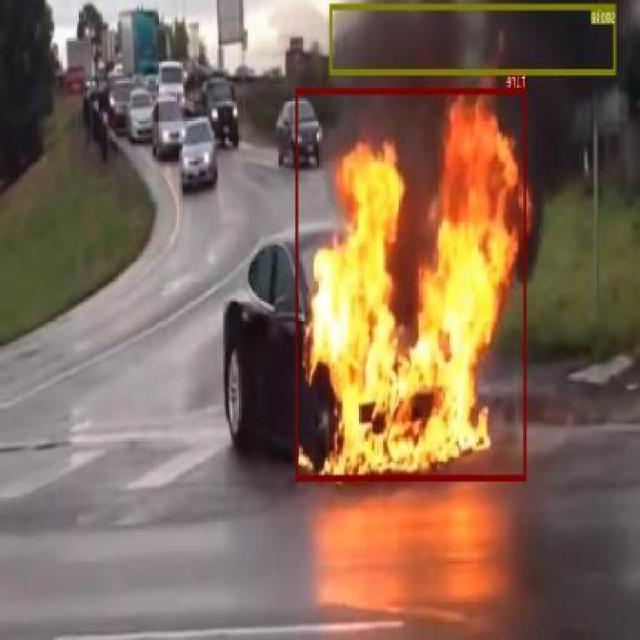Fire: (296, 88, 527, 480)
Smoke: (330, 3, 616, 74)
